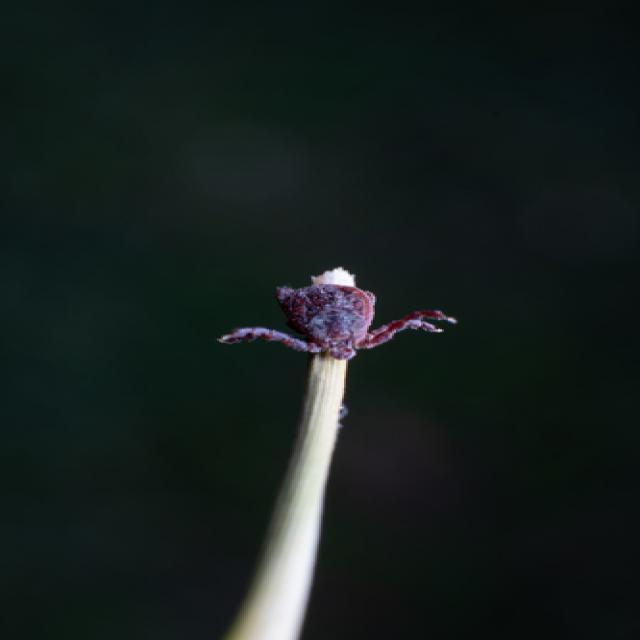Dermacentor Reticulatus-F: (217, 284, 457, 361)
